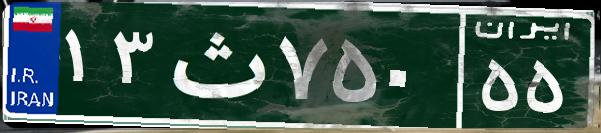0: (385, 28, 445, 110)
1: (57, 26, 110, 107)
3: (110, 28, 158, 105)
5: (330, 28, 385, 110), (475, 38, 525, 113), (525, 38, 570, 115)
7: (273, 28, 330, 110)
ث: (158, 15, 273, 115)
